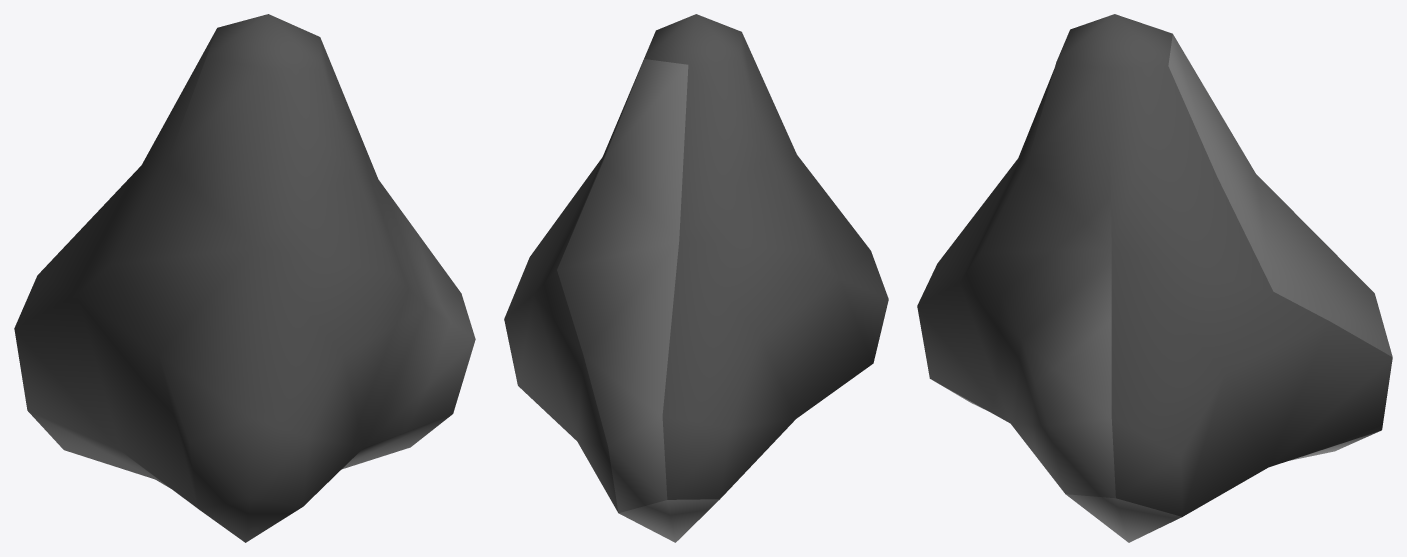
The model's file is rock_06.fbx.
3 renders of one model, left to right at view 1: azimuth 30°, elevation 25°; view 2: azimuth 150°, elevation 25°; view 3: azimuth 270°, elevation 25°, orthographic. The views are drawn at different scales.
Visible parts, largest first — view 1: rock_06; view 2: rock_06; view 3: rock_06.
Part boxes in pixels (x1,y1,x2,y2): rock_06: (14, 14, 475, 542); rock_06: (504, 14, 888, 542); rock_06: (917, 14, 1392, 542).
Size of the model in its own units: 35.2 by 50.83 by 43.65.
